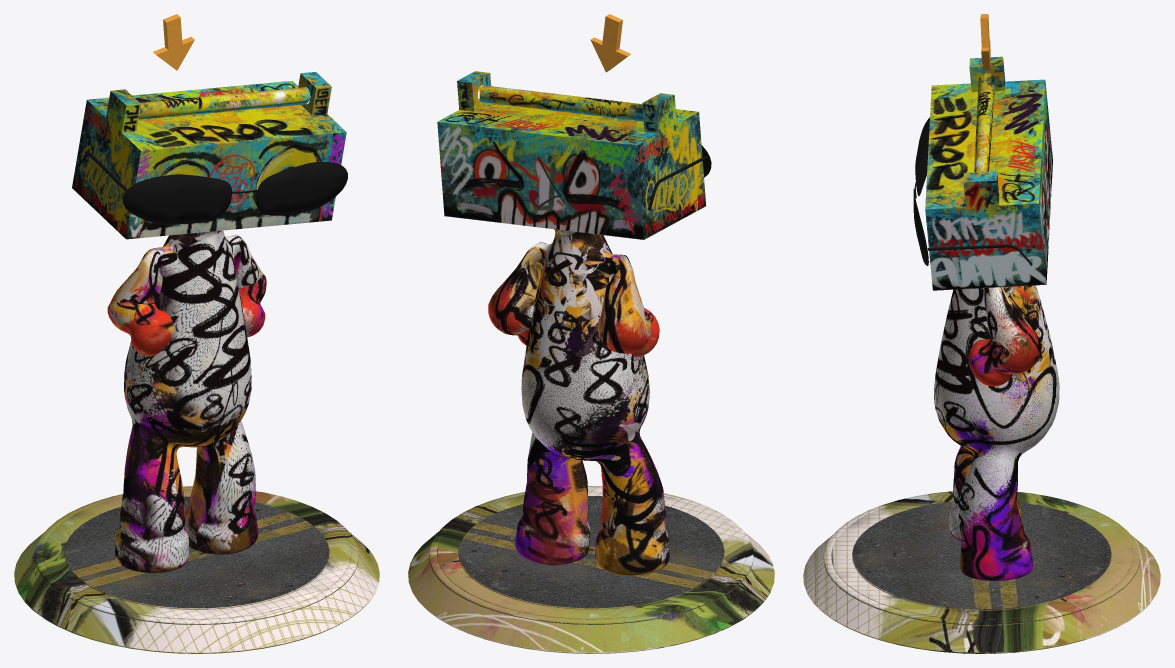
3 views of the same model, side by side, from view 1: azimuth 30°, elevation 25°; view 2: azimuth 150°, elevation 25°; view 3: azimuth 270°, elevation 25° (orthographic). The views are drawn at different scales.
Size of the model in its own units: 1.45 by 2.47 by 1.45.
Materials: 6 (5 with a texture image).
